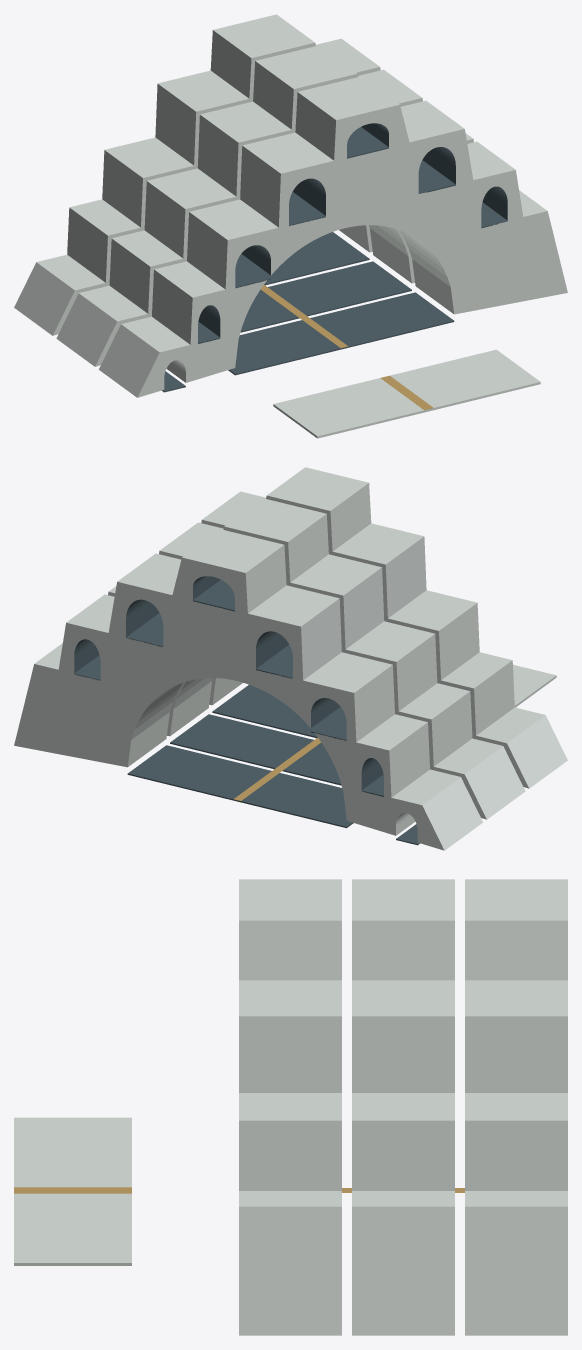
The model's file is study.glb.
The picture shows the model from 3 angles, top to bottom: view 1: azimuth 30°, elevation 25°; view 2: azimuth 150°, elevation 25°; view 3: azimuth 270°, elevation 25°; orthographic projection. The views are drawn at different scales.
Visible parts, largest first — view 1: C INHABITED LAND bay 0, C INHABITED LAND bay 1, C INHABITED LAND bay 2, GROUND ARRIVAL / 0m, C main interior public floor 0, C main interior public floor 1, C main interior public floor 2, C4 Culture Sky Ground internal floor bay 0, C_East Civic Quarter internal floor bay 0, C3 High School Commons internal floor bay 0, C central ground civic promenade, C2 Thousandlight Market internal floor bay 0; view 2: C INHABITED LAND bay 2, C INHABITED LAND bay 1, C INHABITED LAND bay 0, C main interior public floor 2, C main interior public floor 1, C main interior public floor 0, GROUND ARRIVAL / 0m, C4 Culture Sky Ground internal floor bay 2, C_East Civic Quarter internal floor bay 2, C3 High School Commons internal floor bay 2, C central ground civic promenade, C2 Thousandlight Market internal floor bay 2; view 3: C INHABITED LAND bay 0, C INHABITED LAND bay 1, C INHABITED LAND bay 2, GROUND ARRIVAL / 0m, Arrival processional street.
Boxes of the visible parts, <box> form: C INHABITED LAND bay 0: <box>99,76,567,397</box>; C INHABITED LAND bay 1: <box>56,45,473,366</box>; C INHABITED LAND bay 2: <box>14,14,380,335</box>; GROUND ARRIVAL / 0m: <box>273,349,540,438</box>; C main interior public floor 0: <box>228,292,454,375</box>; C main interior public floor 1: <box>240,261,411,332</box>; C main interior public floor 2: <box>240,232,369,285</box>; C4 Culture Sky Ground internal floor bay 0: <box>347,127,388,158</box>; C_East Civic Quarter internal floor bay 0: <box>418,160,455,193</box>; C3 High School Commons internal floor bay 0: <box>289,192,325,226</box>; C central ground civic promenade: <box>261,285,348,348</box>; C2 Thousandlight Market internal floor bay 0: <box>235,256,270,288</box>; C INHABITED LAND bay 2: <box>14,529,482,850</box>; C INHABITED LAND bay 1: <box>108,498,525,819</box>; C INHABITED LAND bay 0: <box>201,467,567,788</box>; C main interior public floor 2: <box>127,745,353,828</box>; C main interior public floor 1: <box>170,714,341,785</box>; C main interior public floor 0: <box>212,685,341,738</box>; GROUND ARRIVAL / 0m: <box>513,664,556,707</box>; C4 Culture Sky Ground internal floor bay 2: <box>193,580,234,611</box>; C_East Civic Quarter internal floor bay 2: <box>126,613,163,646</box>; C3 High School Commons internal floor bay 2: <box>256,645,292,678</box>; C central ground civic promenade: <box>234,737,321,800</box>; C2 Thousandlight Market internal floor bay 2: <box>311,709,346,740</box>; C INHABITED LAND bay 0: <box>239,879,341,1335</box>; C INHABITED LAND bay 1: <box>352,879,454,1335</box>; C INHABITED LAND bay 2: <box>465,879,567,1335</box>; GROUND ARRIVAL / 0m: <box>14,1117,131,1265</box>; Arrival processional street: <box>14,1187,131,1193</box>.
Bounding box in the file's own units: 4050 × 2080 × 3385.
